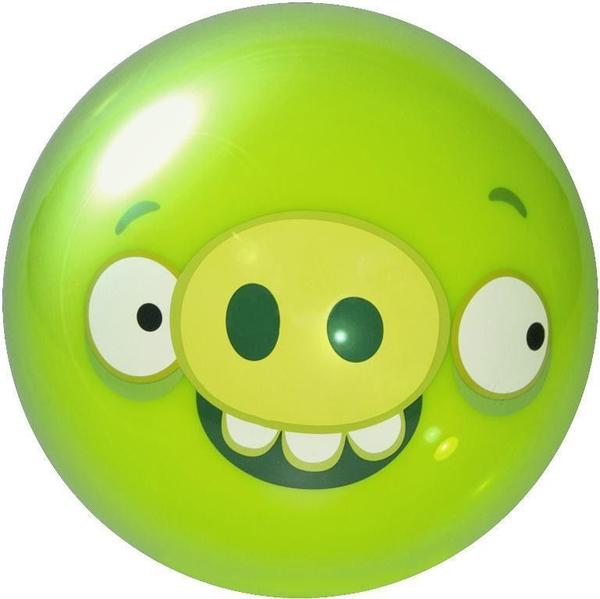Nonrec_Plastic: (1, 3, 587, 577)
